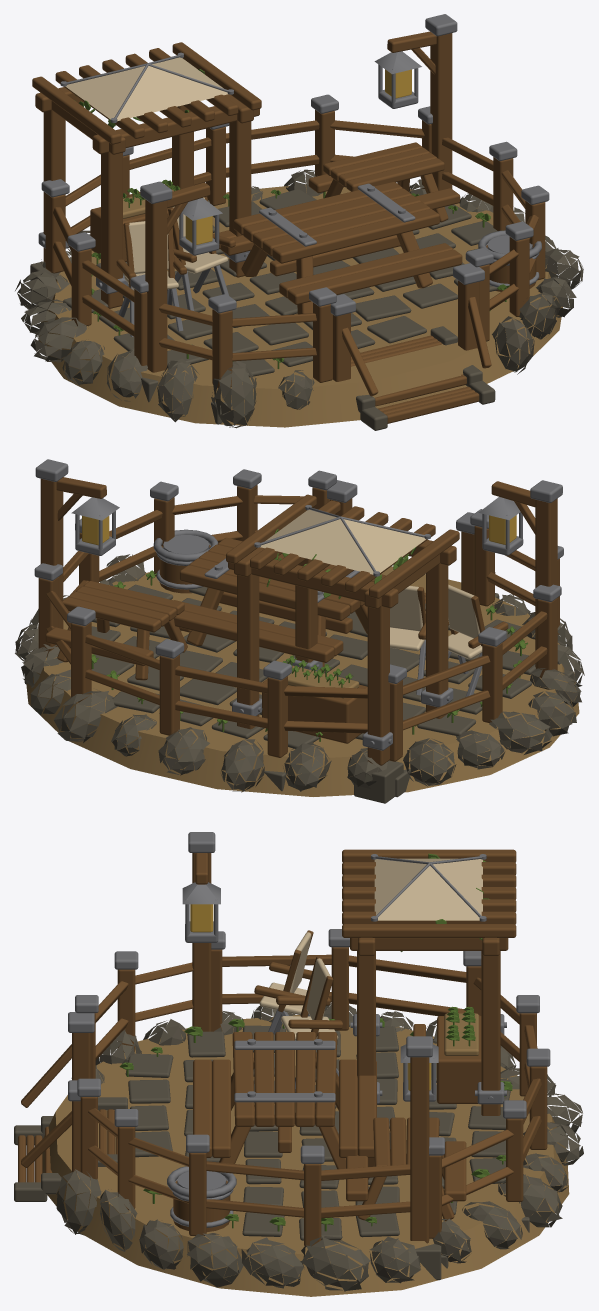
Rendered from picnic-area.glb.
3 views of the same model, one above another, from view 1: azimuth 30°, elevation 25°; view 2: azimuth 150°, elevation 25°; view 3: azimuth 270°, elevation 25° (orthographic). The views are drawn at different scales.
Visible parts, largest first — view 1: picnic-area-farm-wood-shadow, picnic-area-farm-stone-dark, picnic-area-farm-dirt, picnic-area-farm-metal, picnic-area-farm-cloth, picnic-area-farm-gold, picnic-area-farm-leaf; view 2: picnic-area-farm-wood-shadow, picnic-area-farm-stone-dark, picnic-area-farm-dirt, picnic-area-farm-metal, picnic-area-farm-cloth, picnic-area-farm-leaf, picnic-area-farm-gold; view 3: picnic-area-farm-wood-shadow, picnic-area-farm-stone-dark, picnic-area-farm-dirt, picnic-area-farm-metal, picnic-area-farm-cloth, picnic-area-farm-leaf, picnic-area-farm-gold.
Boxes of the visible parts, left/top/right/bottom form: picnic-area-farm-wood-shadow: left=32, top=31, right=545, bottom=423; picnic-area-farm-stone-dark: left=15, top=169, right=583, bottom=430; picnic-area-farm-dirt: left=38, top=184, right=562, bottom=427; picnic-area-farm-metal: left=38, top=14, right=549, bottom=336; picnic-area-farm-cloth: left=65, top=57, right=227, bottom=289; picnic-area-farm-gold: left=185, top=69, right=411, bottom=244; picnic-area-farm-leaf: left=74, top=69, right=509, bottom=368; picnic-area-farm-wood-shadow: left=38, top=477, right=559, bottom=765; picnic-area-farm-stone-dark: left=15, top=531, right=584, bottom=803; picnic-area-farm-dirt: left=26, top=566, right=579, bottom=796; picnic-area-farm-metal: left=34, top=459, right=563, bottom=750; picnic-area-farm-cloth: left=260, top=509, right=482, bottom=659; picnic-area-farm-leaf: left=91, top=529, right=527, bottom=741; picnic-area-farm-gold: left=82, top=515, right=516, bottom=545; picnic-area-farm-wood-shadow: left=18, top=849, right=547, bottom=1246; picnic-area-farm-stone-dark: left=14, top=1003, right=583, bottom=1291; picnic-area-farm-dirt: left=42, top=1013, right=569, bottom=1296; picnic-area-farm-metal: left=68, top=832, right=550, bottom=1227; picnic-area-farm-cloth: left=259, top=858, right=482, bottom=1040; picnic-area-farm-leaf: left=119, top=853, right=512, bottom=1231; picnic-area-farm-gold: left=190, top=904, right=431, bottom=1090.
Size of the model in its own units: 7.96 by 3.69 by 7.21.
